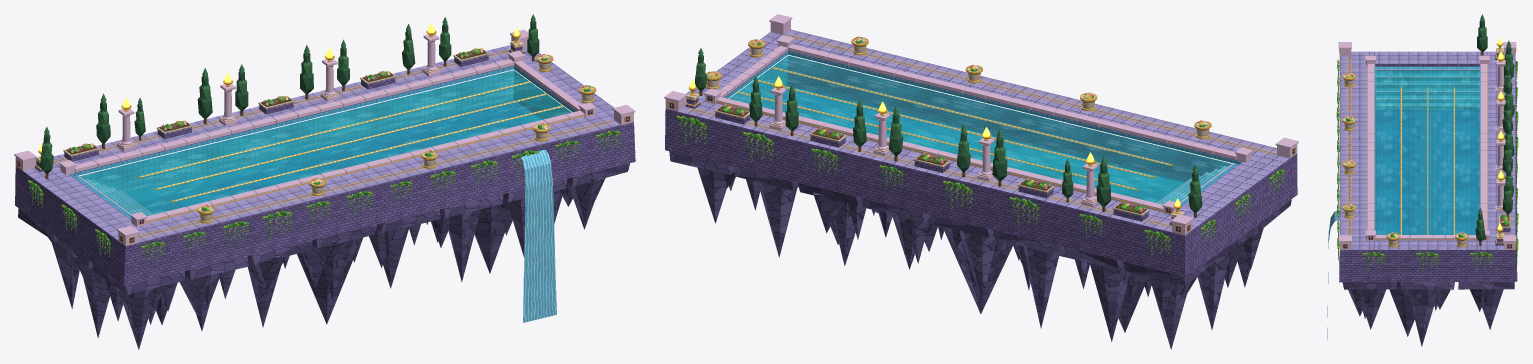
File: Piscina.fbx
3 views of the same model, side by side, from view 1: azimuth 30°, elevation 25°; view 2: azimuth 150°, elevation 25°; view 3: azimuth 270°, elevation 25° (orthographic). The views are drawn at different scales.
Parts seen in each view (by area): view 1: Mod_Piscina_Profunda, Piscina_Agua, Piscina_Cascada, Piscina_Cuerdas, Piscina_Cipres_03, Piscina_Cipres_05, Piscina_Cipres_01, Piscina_Columna_04, Piscina_Columna_01, Piscina_Cipres_04, Piscina_Columna_02, Piscina_Columna_03; view 2: Mod_Piscina_Profunda, Piscina_Agua, Piscina_Cuerdas, Piscina_Cipres_03, Piscina_Cipres_01, Piscina_Cipres_05, Piscina_Columna_01, Piscina_Jardinera_02, Piscina_Jardinera_03, Piscina_Jardinera_01, Piscina_Columna_02, Piscina_Jardinera_04 (+3 smaller); view 3: Mod_Piscina_Profunda, Piscina_Agua, Piscina_Cuerdas, Piscina_Cipres_09, Piscina_Columna_01, Piscina_Cipres_08, Piscina_Columna_04, Piscina_Columna_02, Piscina_Columna_03, Piscina_Cipres_01, Piscina_Cipres_06, Piscina_Cipres_10 (+15 smaller).
Boxes of the visible parts, x1,y1,x2,y2 form: Mod_Piscina_Profunda: [14, 29, 635, 349]; Piscina_Agua: [80, 70, 571, 215]; Piscina_Cascada: [521, 149, 556, 322]; Piscina_Cuerdas: [137, 81, 563, 202]; Piscina_Cipres_03: [197, 68, 212, 124]; Piscina_Cipres_05: [300, 45, 313, 99]; Piscina_Cipres_01: [96, 93, 110, 148]; Piscina_Columna_04: [422, 30, 440, 76]; Piscina_Columna_01: [117, 105, 135, 151]; Piscina_Cipres_04: [235, 64, 248, 115]; Piscina_Columna_02: [219, 80, 237, 126]; Piscina_Columna_03: [320, 55, 338, 101]; Mod_Piscina_Profunda: [664, 14, 1298, 349]; Piscina_Agua: [729, 55, 1231, 204]; Piscina_Cuerdas: [738, 67, 1172, 190]; Piscina_Cipres_03: [992, 129, 1007, 186]; Piscina_Cipres_01: [1096, 155, 1111, 211]; Piscina_Cipres_05: [888, 105, 903, 161]; Piscina_Columna_01: [1081, 159, 1098, 206]; Piscina_Jardinera_02: [913, 152, 950, 172]; Piscina_Jardinera_03: [809, 127, 846, 147]; Piscina_Jardinera_01: [1017, 178, 1054, 198]; Piscina_Columna_02: [977, 134, 994, 181]; Piscina_Jardinera_04: [1112, 201, 1149, 221]; Mod_Piscina_Profunda: [1338, 42, 1517, 346]; Piscina_Agua: [1375, 70, 1479, 236]; Piscina_Cuerdas: [1400, 87, 1454, 234]; Piscina_Cipres_09: [1477, 14, 1487, 55]; Piscina_Columna_01: [1495, 57, 1505, 93]; Piscina_Cipres_08: [1502, 178, 1512, 215]; Piscina_Columna_04: [1495, 176, 1505, 212]; Piscina_Columna_02: [1495, 97, 1505, 133]; Piscina_Columna_03: [1495, 136, 1505, 172]; Piscina_Cipres_01: [1504, 40, 1514, 78]; Piscina_Cipres_06: [1502, 137, 1513, 172]; Piscina_Cipres_10: [1475, 208, 1485, 245].
Size of the model in its own units: 48.52 by 21.32 by 19.55.
